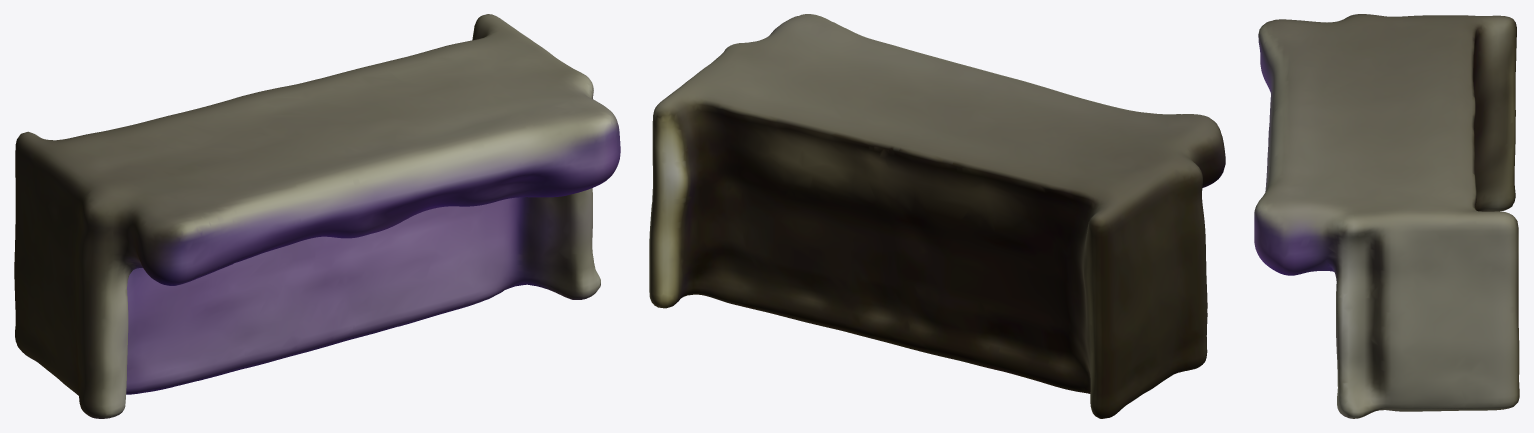
File: sofa.glb
3 views of the same model, side by side, from view 1: azimuth 30°, elevation 25°; view 2: azimuth 150°, elevation 25°; view 3: azimuth 270°, elevation 25° (orthographic). The views are drawn at different scales.
Bounding box in the file's own units: 0.9978 × 0.4512 × 0.4952.
